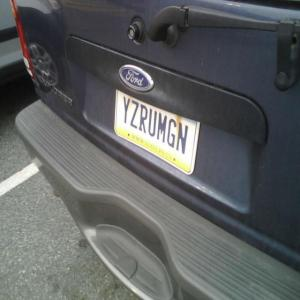Plate: (115, 90, 200, 173)
